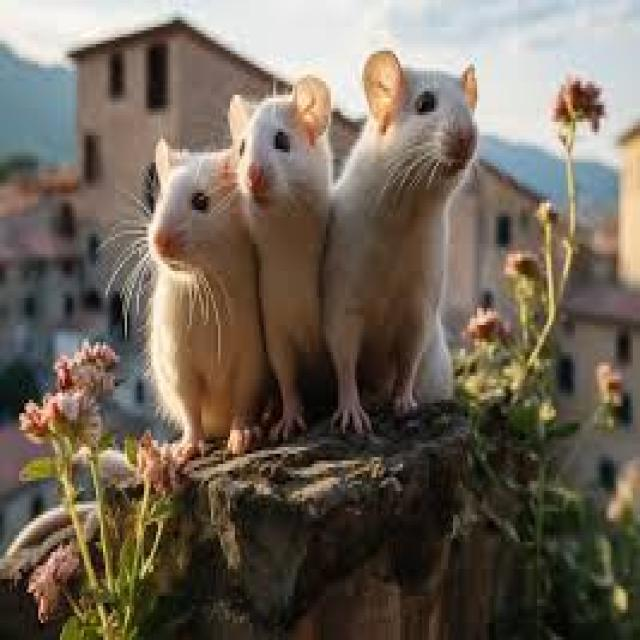rat: (321, 48, 477, 434), (142, 132, 268, 464), (225, 71, 334, 440)
